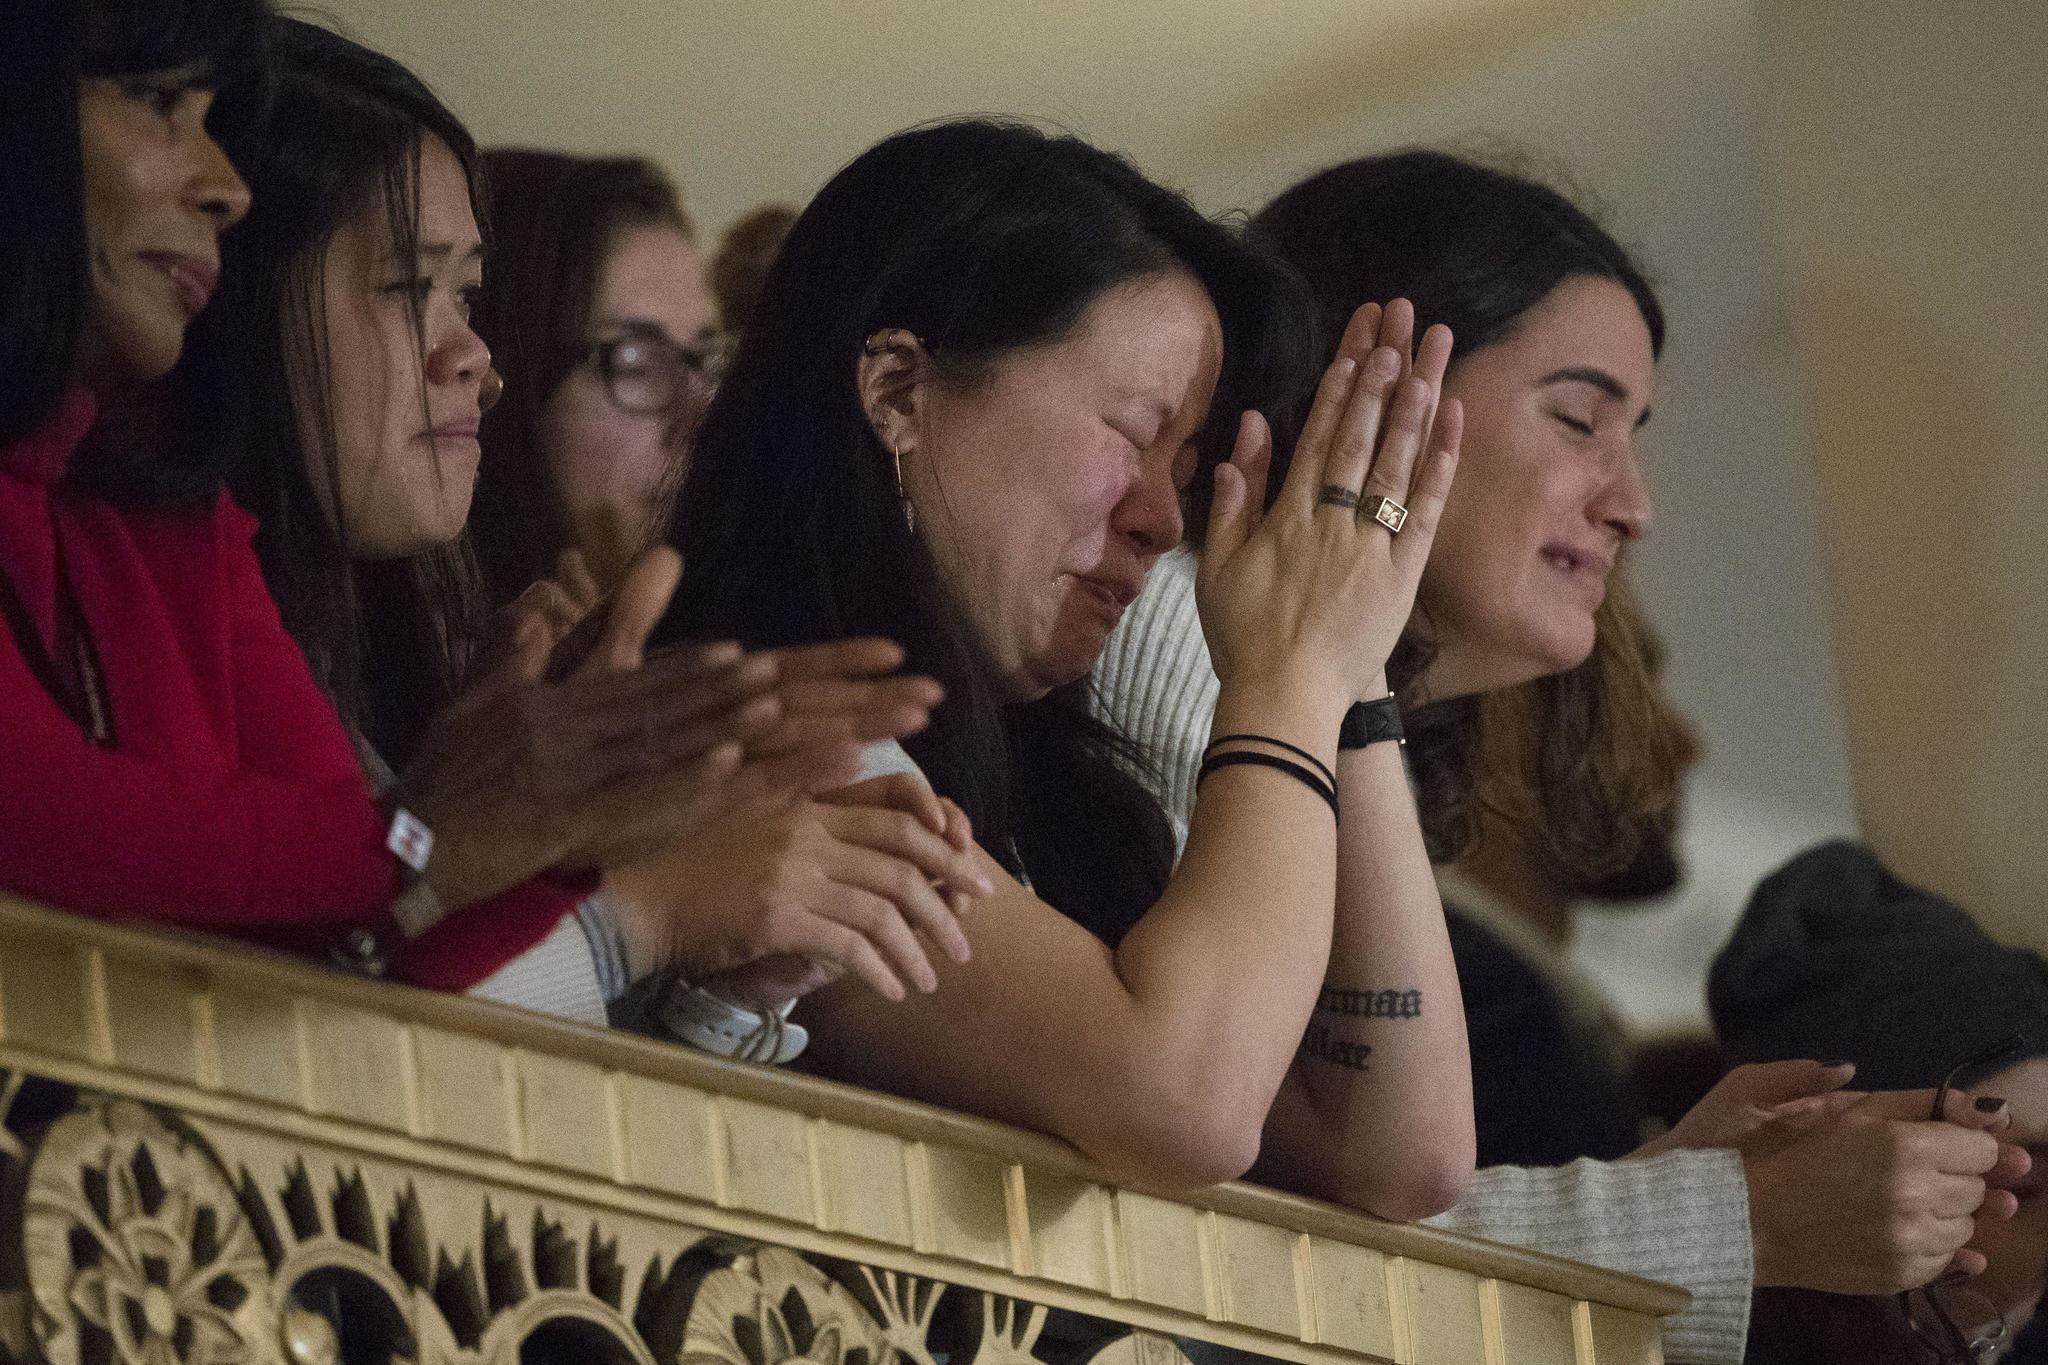sad: (1019, 279, 1226, 655), (1475, 308, 1654, 669)
